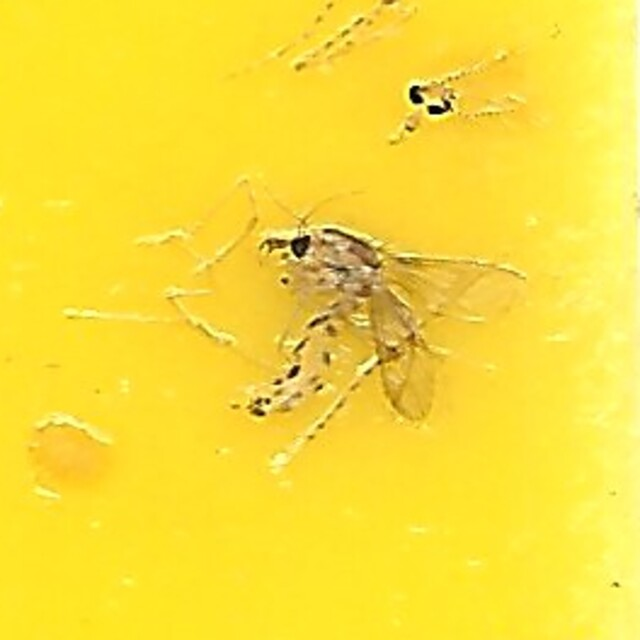Nematocera: (242, 220, 398, 420)
